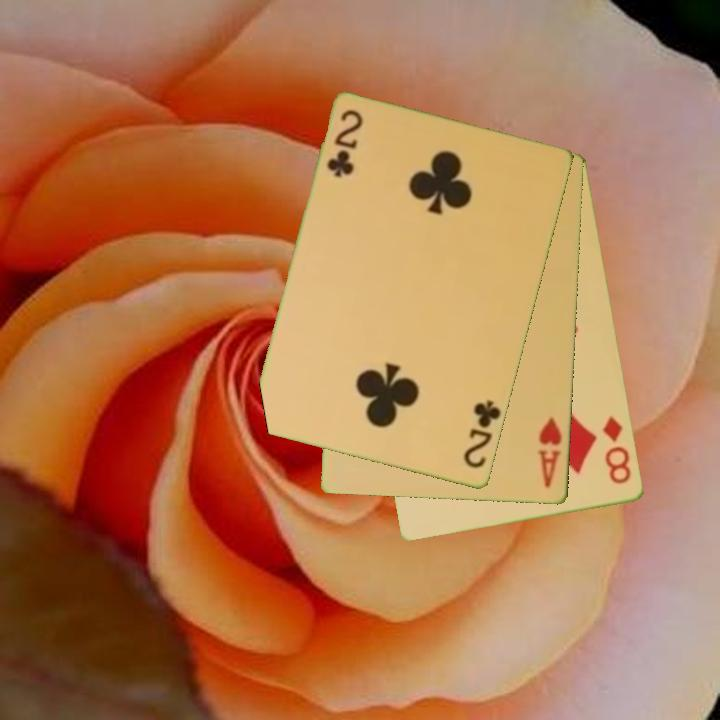2c: (460, 397, 504, 472), (323, 106, 366, 181)
8d: (599, 413, 635, 487)
Ah: (535, 415, 565, 491)
